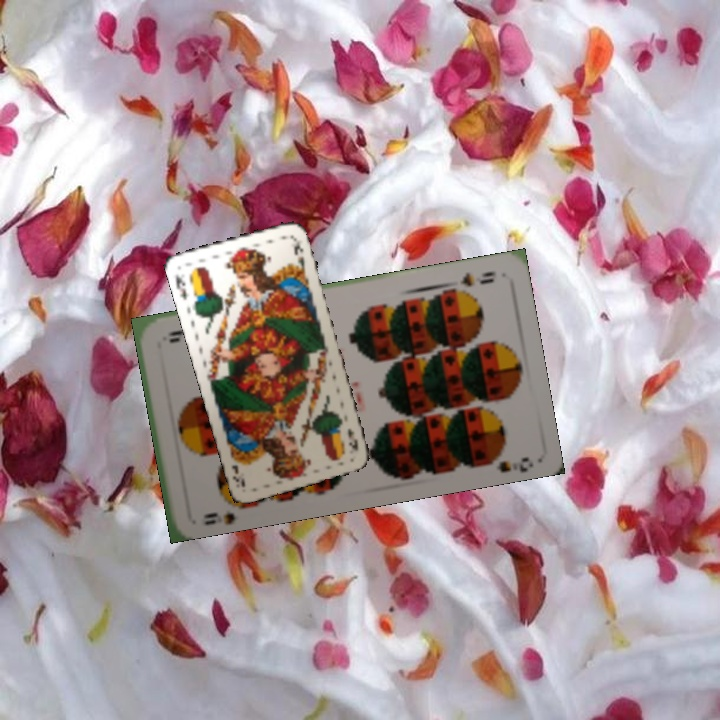EK: (172, 270, 190, 302), (343, 424, 361, 453)
S9: (200, 497, 250, 521), (455, 267, 499, 289)
